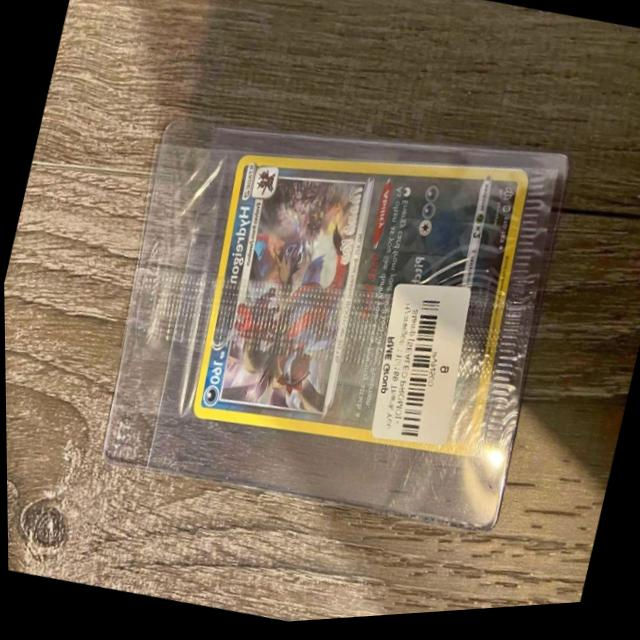card: (191, 157, 527, 461)
